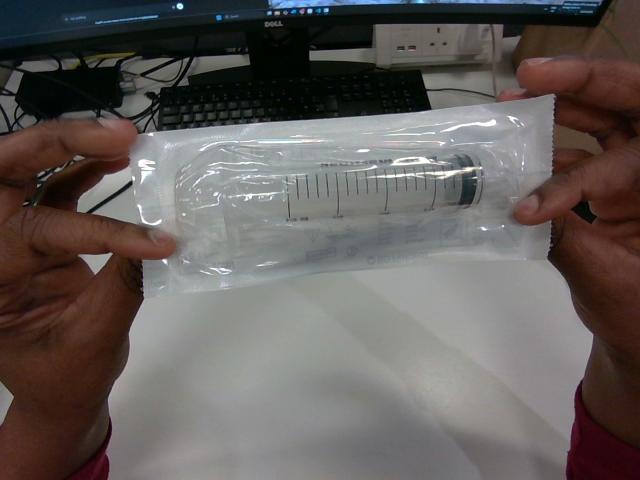syringe: (131, 96, 553, 296)
